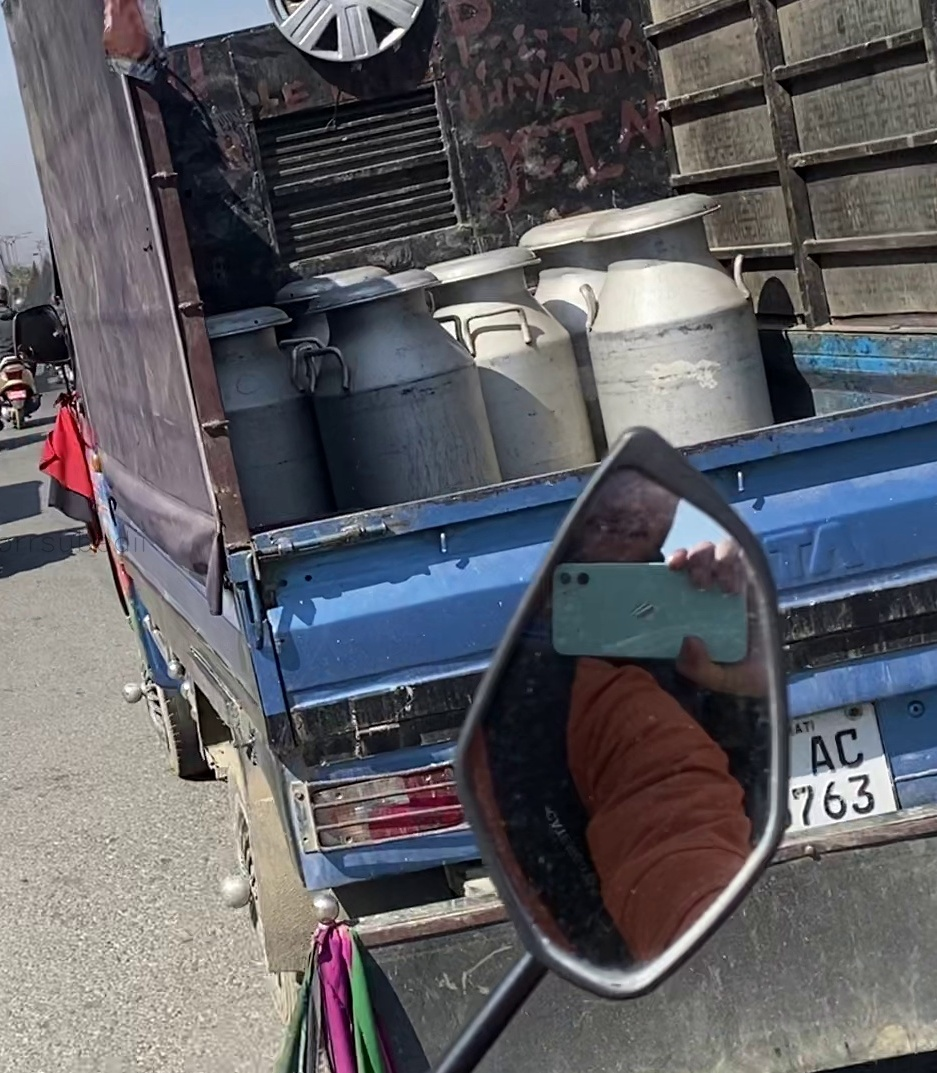license_plate: (785, 704, 898, 831)
